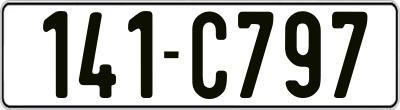1: (128, 8, 158, 95), (40, 8, 66, 97)
4: (78, 10, 119, 100)
7: (238, 10, 279, 98), (330, 9, 366, 96)
9: (282, 8, 321, 99)
C: (191, 12, 230, 99)
